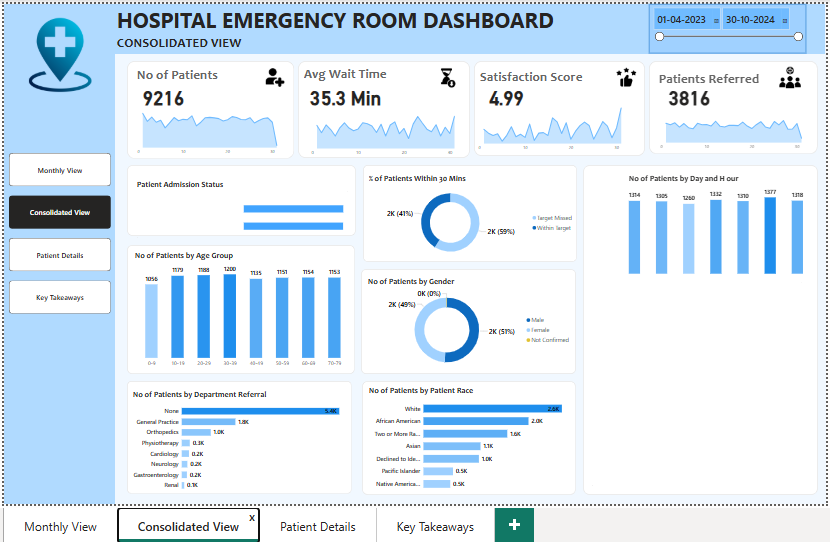

What the dashboard file says about the page in this screenshot:
{"tool":"powerbi","page":{"name":"Consolidated View","canvas":[2300,1400],"ordinal":1},"visuals":[{"type":"shape","box":[310.8,0,1988,140],"z":0},{"type":"shape","box":[0,0,310.8,1400],"z":1000},{"type":"textbox","box":[310.8,78.4,383.6,61.6],"z":2000},{"type":"textbox","box":[311.6,0,1243.2,89.9],"z":3000},{"type":"slicer","fields":{"Values":["Date Table.Date"]},"box":[1850.8,14,428.4,109.2],"z":4000},{"type":"image","box":[25.2,33.6,263.2,218.4],"z":5000},{"type":"pageNavigator","box":[14,417.2,285.6,450.8],"z":6000},{"type":"shape","box":[344.4,159.6,467.6,274.4],"z":7000},{"type":"card","fields":{"Values":["Hospital ER_Data.No of Patients"]},"box":[355.6,218.4,182,78.4],"z":8000},{"type":"textbox","box":[366.8,168,274.4,78.4],"z":9000},{"type":"areaChart","fields":{"Category":["Date Table.Date.Variation.Date Hierarchy.Day"],"Y":["Hospital ER_Data.No of Patients"]},"box":[361.2,285.6,467.6,145.6],"z":10000},{"type":"shape","box":[823.2,159.6,481.6,271.6],"z":11000},{"type":"card","fields":{"Values":["Hospital ER_Data.Avg Wait Time"]},"box":[823.2,218.4,266,78.4],"z":12000},{"type":"textbox","box":[834.4,165.2,341.6,81.2],"z":13000},{"type":"areaChart","fields":{"Category":["Date Table.Date.Variation.Date Hierarchy.Day"],"Y":["Avg(Hospital ER_Data.Patient Waittime)"]},"box":[848.4,285.6,478.8,148.4],"z":14000},{"type":"shape","box":[1316,159.6,478.8,266],"z":15000},{"type":"card","fields":{"Values":["Hospital ER_Data.Satisfaction Score"]},"box":[1316,218.4,182,78.4],"z":16000},{"type":"textbox","box":[1327.2,173.6,459.2,75.6],"z":17000},{"type":"areaChart","fields":{"Category":["Date Table.Date.Variation.Date Hierarchy.Day"],"Y":["Hospital ER_Data.Satisfaction Score"]},"box":[1316,268.8,478.8,151.2],"z":18000},{"type":"shape","box":[1806,159.6,473.2,260.4],"z":19000},{"type":"card","fields":{"Values":["Hospital ER_Data.No of Patients Referred"]},"box":[1828.4,218.4,182,78.4],"z":20000},{"type":"textbox","box":[1828.4,179.2,406,64.4],"z":21000},{"type":"areaChart","fields":{"Category":["Date Table.Date.Variation.Date Hierarchy.Day"],"Y":["Hospital ER_Data.No of Patients Referred"]},"box":[1825.6,277.2,473.2,140],"z":22000},{"type":"image","box":[1204,173.6,78.4,67.2],"z":23000},{"type":"image","box":[1705.2,168,75.6,72.8],"z":24000},{"type":"image","box":[728,170.8,61.6,70],"z":25000},{"type":"image","box":[2156,170.8,89.6,70],"z":26000},{"type":"shape","box":[344.4,450.8,641.2,198.8],"z":27000},{"type":"pivotTable","title":"Patient Admission Status","fields":{"Rows":["Hospital ER_Data.Admission Status"],"Values":["Hospital ER_Data.No of Patients"]},"box":[366.7,490.9,609.1,175.8],"z":28000},{"type":"barChart","fields":{"Category":["Hospital ER_Data.Admission Status"],"Y":["Hospital ER_Data.No of Patients"]},"box":[666.7,527.3,312.1,139.4],"z":29000},{"type":"shape","box":[344.4,674.8,638.4,361.2],"z":30000},{"type":"clusteredColumnChart","fields":{"Category":["Hospital ER_Data.Age Group"],"Y":["Hospital ER_Data.No of Patients"]},"box":[360.6,687.9,618.2,336.4],"z":31000},{"type":"shape","box":[344.4,1055.6,630,316.4],"z":32000},{"type":"clusteredBarChart","fields":{"Category":["Hospital ER_Data.Department Referral"],"Y":["Hospital ER_Data.No of Patients"]},"box":[355.6,1078,616,296.8],"z":33000},{"type":"shape","box":[1005.2,450.8,599.2,271.6],"z":34000},{"type":"donutChart","title":"% of Patients Within 30 Mins","fields":{"Category":["Hospital ER_Data.Waittime Status"],"Y":["Hospital ER_Data.No of Patients Referred"]},"box":[1016.4,473.2,588,249.2],"z":35000},{"type":"shape","box":[999.6,742,602,294],"z":36000},{"type":"donutChart","title":"No of Patients by Gender","fields":{"Category":["Hospital ER_Data.Patient Gender"],"Y":["Hospital ER_Data.No of Patients Referred"]},"box":[1013.6,761.6,582.4,274.4],"z":37000},{"type":"shape","box":[1002.4,1055.6,599.2,319.2],"z":38000},{"type":"clusteredBarChart","fields":{"Category":["Hospital ER_Data.Patient Race"],"Y":["Hospital ER_Data.No of Patients"]},"box":[1016.4,1066.8,579.6,308],"z":39000},{"type":"shape","box":[1621.2,450.8,658,924],"z":40000},{"type":"pivotTable","fields":{"Columns":["Date Table.Day Name"],"Values":["Hospital ER_Data.No of Patients"],"Rows":["Hospital ER_Data.Waittime Interval"]},"box":[1641.5,774.2,603.9,587.8],"z":41000},{"type":"columnChart","title":"No of Patients by Day and H our","fields":{"Category":["Date Table.Day Name"],"Y":["Hospital ER_Data.No of Patients"]},"box":[1744.4,473.2,501.2,288.4],"z":42000}]}

Visuals, with their boxes on the page's 2300x1400 design canvas (x1, y1, x2, y2). These are canvas units, not pixel positions in the 830x542 screenshot, which may show the page scaled, cropped or inside an application window:
shape: (x1=311, y1=0, x2=2299, y2=140)
shape: (x1=0, y1=0, x2=311, y2=1400)
textbox: (x1=311, y1=78, x2=694, y2=140)
textbox: (x1=312, y1=0, x2=1555, y2=90)
slicer - Date Table.Date: (x1=1851, y1=14, x2=2279, y2=123)
image: (x1=25, y1=34, x2=288, y2=252)
pageNavigator: (x1=14, y1=417, x2=300, y2=868)
shape: (x1=344, y1=160, x2=812, y2=434)
card - Hospital ER_Data.No of Patients: (x1=356, y1=218, x2=538, y2=297)
textbox: (x1=367, y1=168, x2=641, y2=246)
areaChart - Date Table.Date.Variation.Date Hierarchy.Day x Hospital ER_Data.No of Patients: (x1=361, y1=286, x2=829, y2=431)
shape: (x1=823, y1=160, x2=1305, y2=431)
card - Hospital ER_Data.Avg Wait Time: (x1=823, y1=218, x2=1089, y2=297)
textbox: (x1=834, y1=165, x2=1176, y2=246)
areaChart - Date Table.Date.Variation.Date Hierarchy.Day x Avg(Hospital ER_Data.Patient Waittime): (x1=848, y1=286, x2=1327, y2=434)
shape: (x1=1316, y1=160, x2=1795, y2=426)
card - Hospital ER_Data.Satisfaction Score: (x1=1316, y1=218, x2=1498, y2=297)
textbox: (x1=1327, y1=174, x2=1786, y2=249)
areaChart - Date Table.Date.Variation.Date Hierarchy.Day x Hospital ER_Data.Satisfaction Score: (x1=1316, y1=269, x2=1795, y2=420)
shape: (x1=1806, y1=160, x2=2279, y2=420)
card - Hospital ER_Data.No of Patients Referred: (x1=1828, y1=218, x2=2010, y2=297)
textbox: (x1=1828, y1=179, x2=2234, y2=244)
areaChart - Date Table.Date.Variation.Date Hierarchy.Day x Hospital ER_Data.No of Patients Referred: (x1=1826, y1=277, x2=2299, y2=417)
image: (x1=1204, y1=174, x2=1282, y2=241)
image: (x1=1705, y1=168, x2=1781, y2=241)
image: (x1=728, y1=171, x2=790, y2=241)
image: (x1=2156, y1=171, x2=2246, y2=241)
shape: (x1=344, y1=451, x2=986, y2=650)
"Patient Admission Status" pivotTable: (x1=367, y1=491, x2=976, y2=667)
barChart - Hospital ER_Data.Admission Status x Hospital ER_Data.No of Patients: (x1=667, y1=527, x2=979, y2=667)
shape: (x1=344, y1=675, x2=983, y2=1036)
clusteredColumnChart - Hospital ER_Data.Age Group x Hospital ER_Data.No of Patients: (x1=361, y1=688, x2=979, y2=1024)
shape: (x1=344, y1=1056, x2=974, y2=1372)
clusteredBarChart - Hospital ER_Data.Department Referral x Hospital ER_Data.No of Patients: (x1=356, y1=1078, x2=972, y2=1375)
shape: (x1=1005, y1=451, x2=1604, y2=722)
"% of Patients Within 30 Mins" donutChart: (x1=1016, y1=473, x2=1604, y2=722)
shape: (x1=1000, y1=742, x2=1602, y2=1036)
"No of Patients by Gender" donutChart: (x1=1014, y1=762, x2=1596, y2=1036)
shape: (x1=1002, y1=1056, x2=1602, y2=1375)
clusteredBarChart - Hospital ER_Data.Patient Race x Hospital ER_Data.No of Patients: (x1=1016, y1=1067, x2=1596, y2=1375)
shape: (x1=1621, y1=451, x2=2279, y2=1375)
pivotTable - Date Table.Day Name x Hospital ER_Data.No of Patients: (x1=1642, y1=774, x2=2245, y2=1362)
"No of Patients by Day and H our" columnChart: (x1=1744, y1=473, x2=2246, y2=762)
